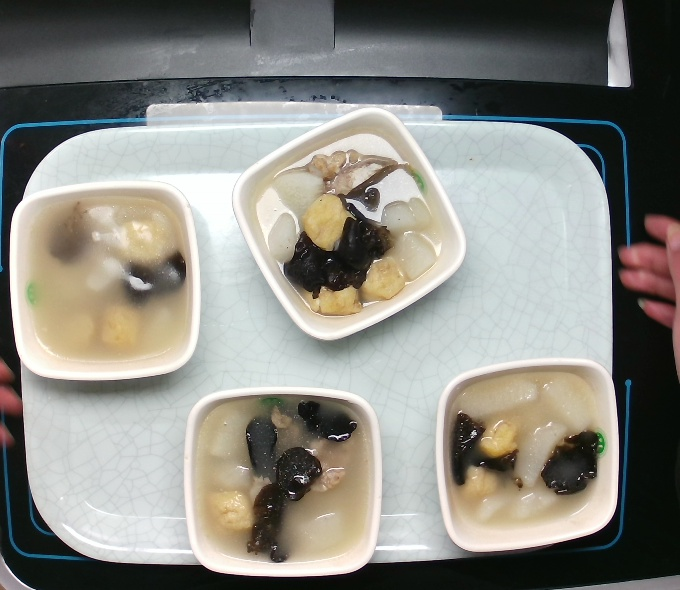wcq-ShanYaoTang: (250, 126, 450, 319), (190, 392, 373, 569), (22, 190, 191, 367), (443, 368, 610, 537)
